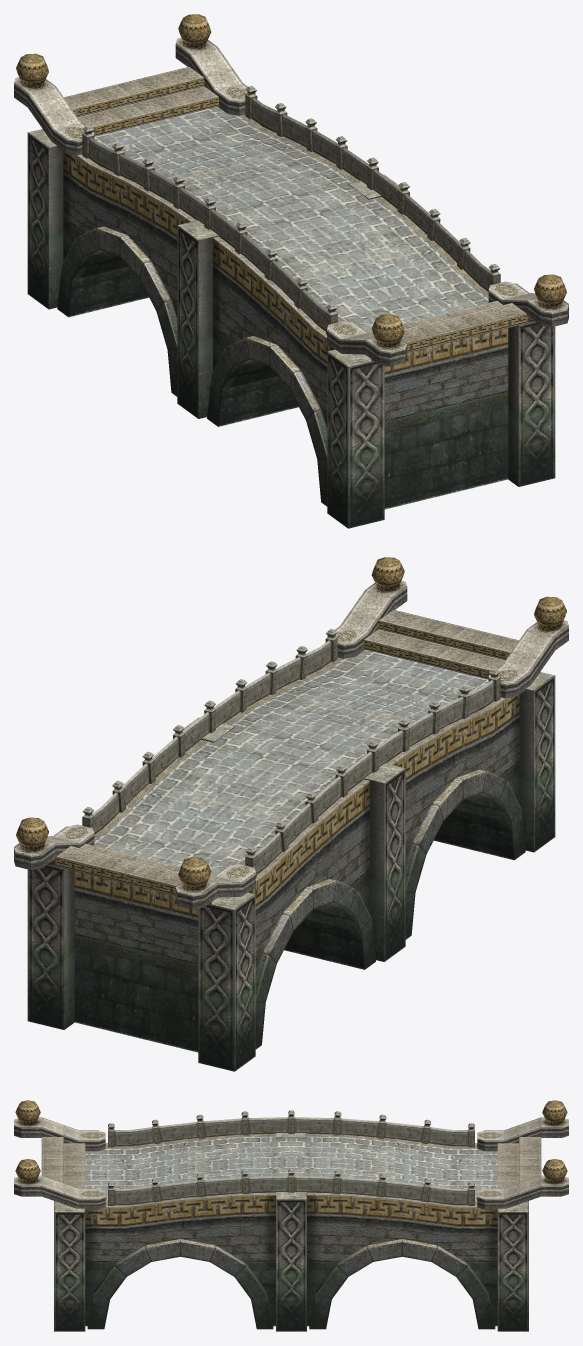
The model's file is otherworld_bridge_01.glb.
3 views of the same model, one above another, from view 1: azimuth 30°, elevation 25°; view 2: azimuth 150°, elevation 25°; view 3: azimuth 270°, elevation 25° (orthographic). The views are drawn at different scales.
Visible parts, largest first — view 1: otherworld_bridge_01; view 2: otherworld_bridge_01; view 3: otherworld_bridge_01.
Boxes of the visible parts, x1=… form: otherworld_bridge_01: x1=14, y1=14, x2=568, y2=528; otherworld_bridge_01: x1=14, y1=557, x2=568, y2=1071; otherworld_bridge_01: x1=14, y1=1100, x2=568, y2=1331.
Bounding box in the file's own units: 8.5 × 8.7 × 26.66.
Materials: 2 (2 with a texture image).
